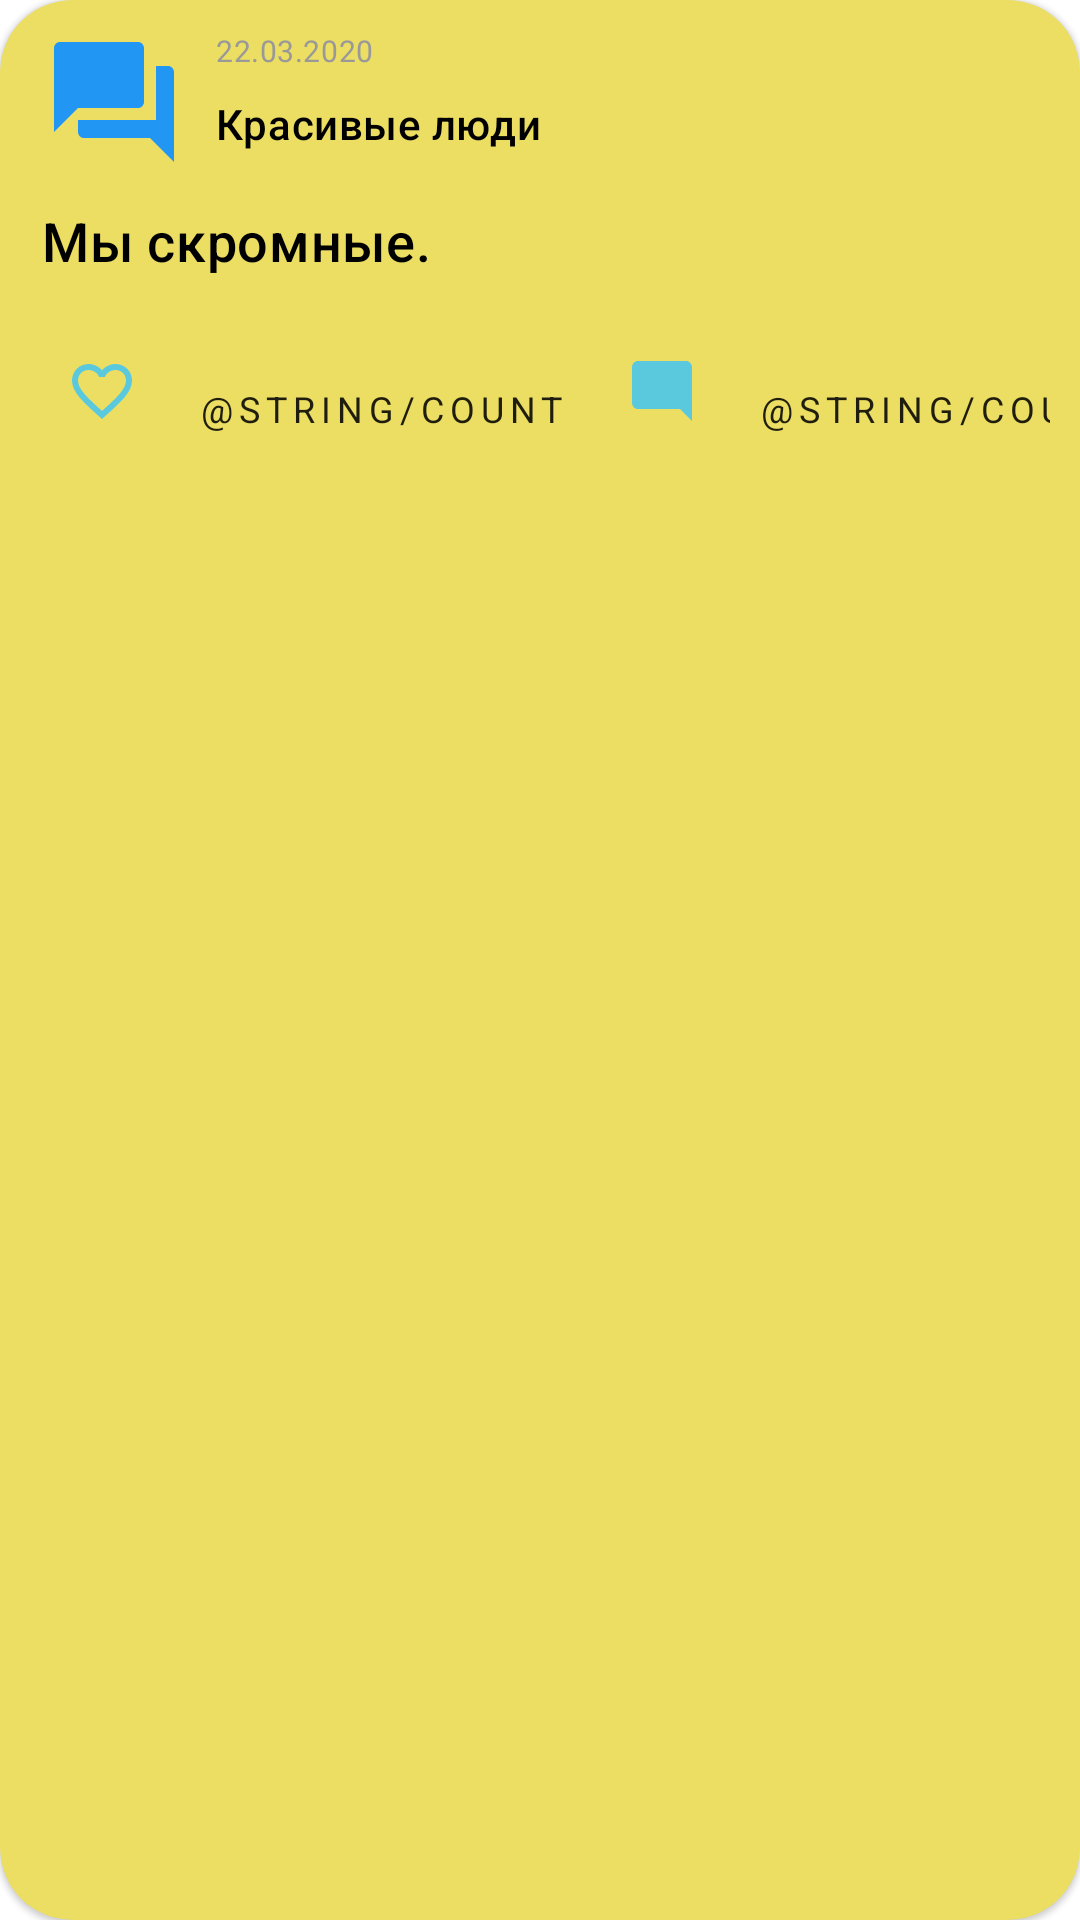

Locate icon controls on the screen. Image size 1080w x 1920h, boxes as (x1, y1, x2, y2).
favorite border: (72, 364, 132, 419)
question answer: (54, 42, 174, 162)
